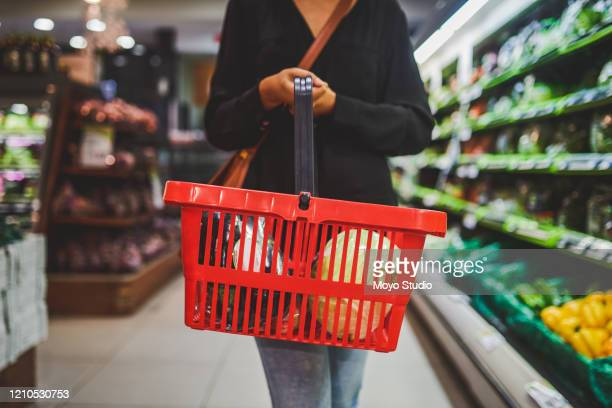with_basket: (167, 77, 450, 356)
